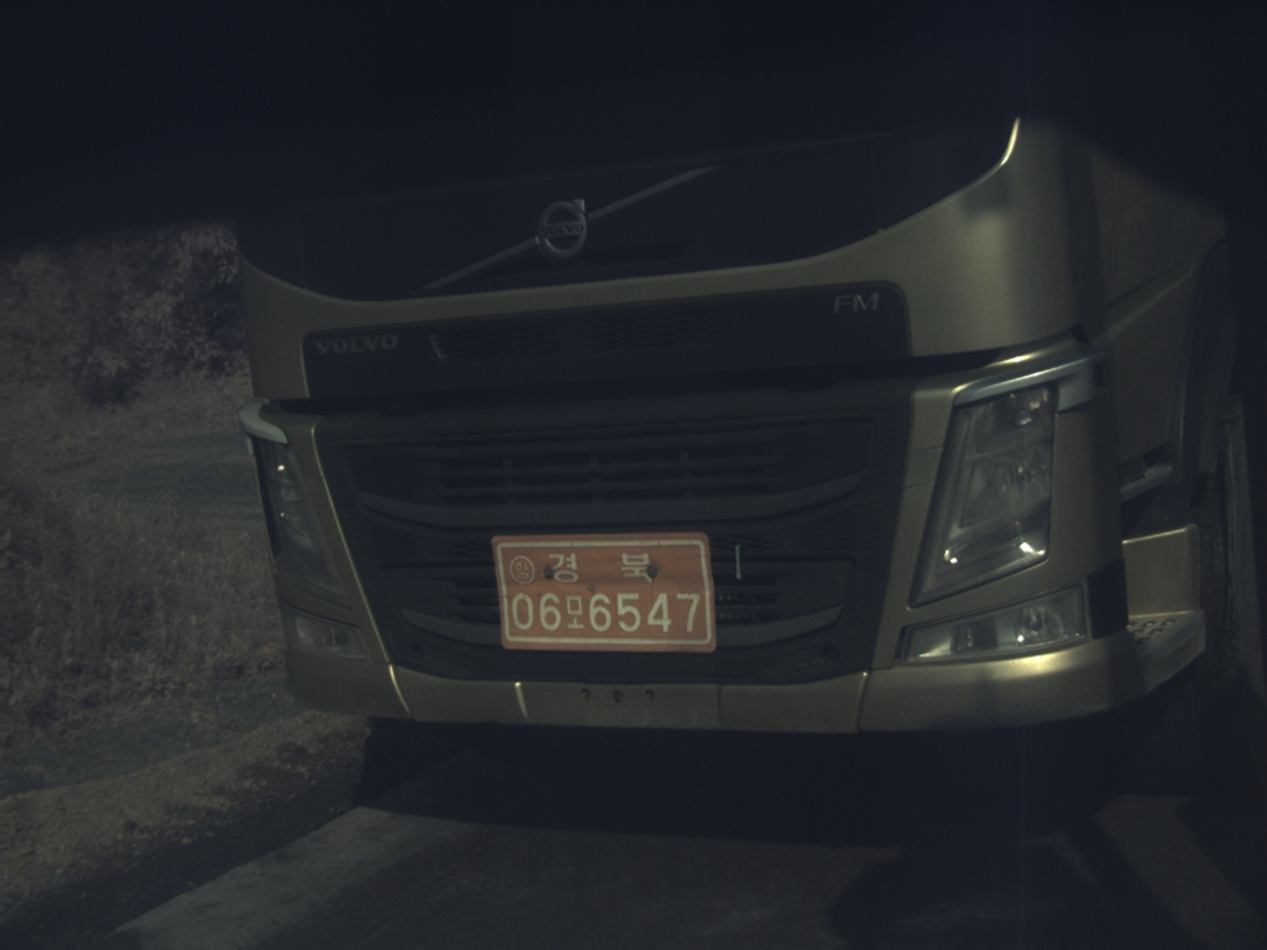license_plate: (492, 533, 715, 651)
truck: (238, 121, 1265, 774)
